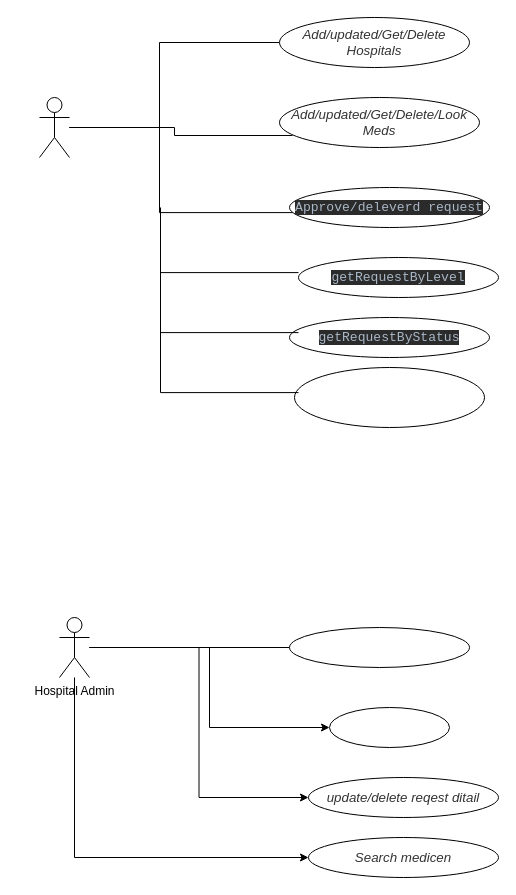
The diagram is 516 pixels wide and 895 high, and some of its shapes have lost their labels. The centre of each missing label's shape, as x and y in pixels:
add/get request: the point at 389,727
add/update/delete/search patient: the point at 379,647
Approve/reject/ edit user: the point at 389,397
Central Admin: the point at 54,127
